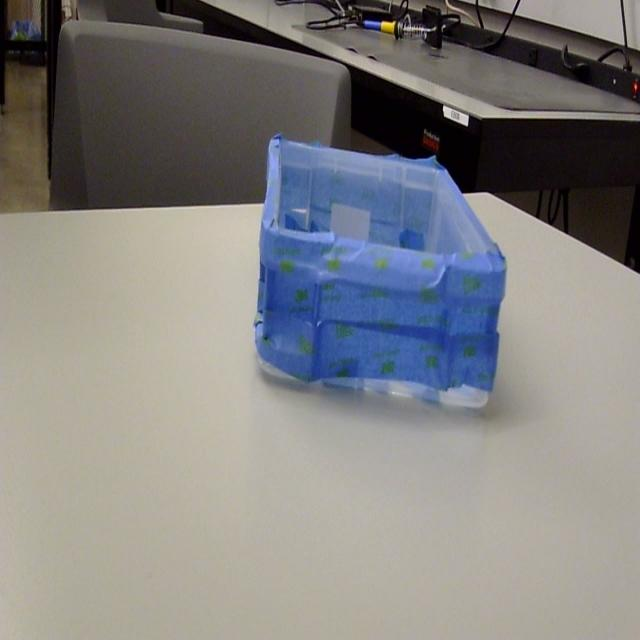bucket: (254, 135, 506, 413)
